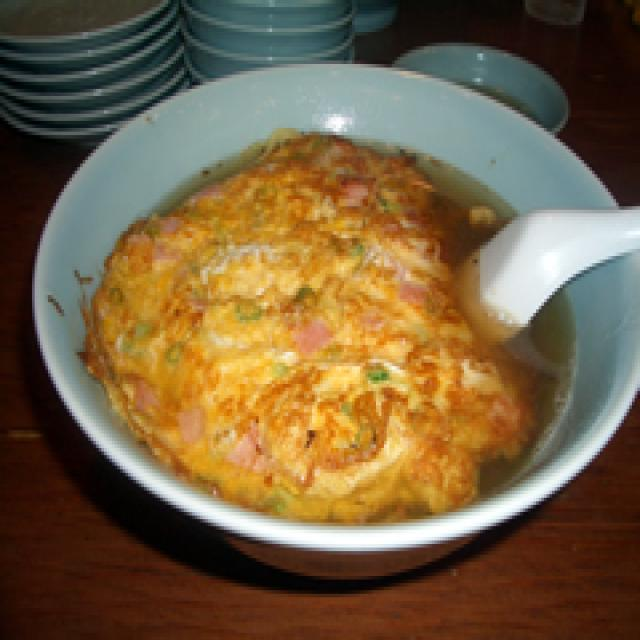面条主食: (59, 99, 600, 569)
